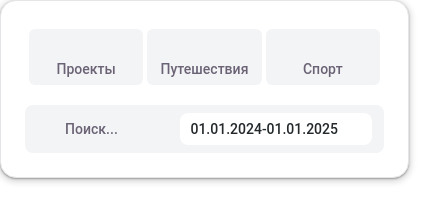
Test: Cards/Main › shows and clears the applied date range in the search bar
Click the button named "Сбросить фильтр по дате".
click(276, 129)  # box [180, 113, 372, 145]
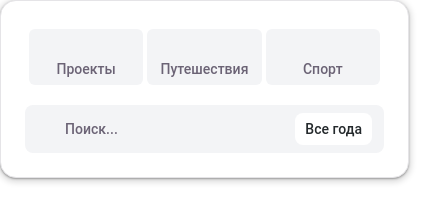
Expected: the text "Все года" is shown, [305, 119, 362, 139]
